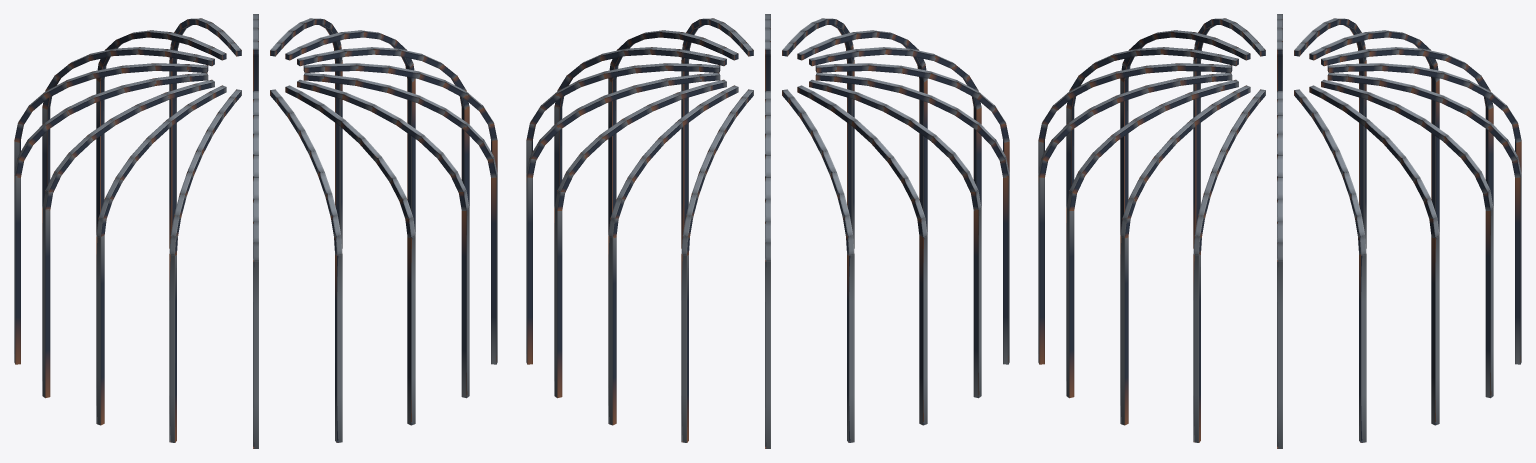
The model's file is arches.obj.
The picture shows the model from 3 angles, left to right: view 1: azimuth 30°, elevation 25°; view 2: azimuth 150°, elevation 25°; view 3: azimuth 270°, elevation 25°; orthographic projection.
Bounding box in the file's own units: 15.7 × 9.73 × 15.49.
1 material, 1 textured.
